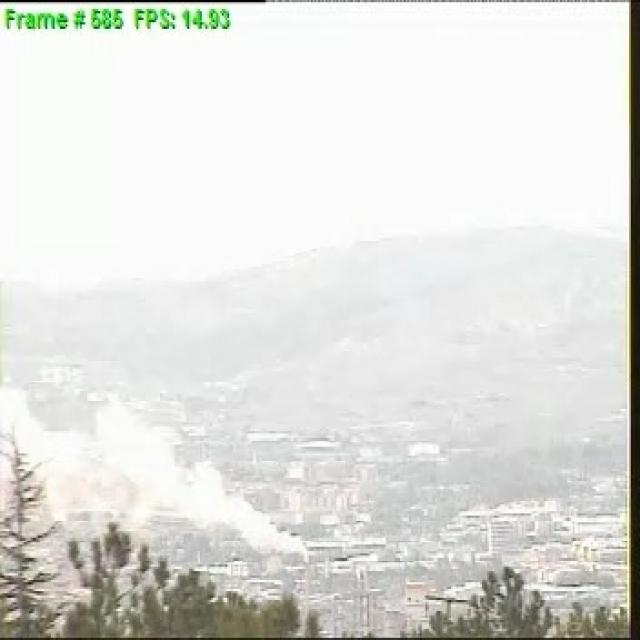smoke: (40, 388, 305, 548)
